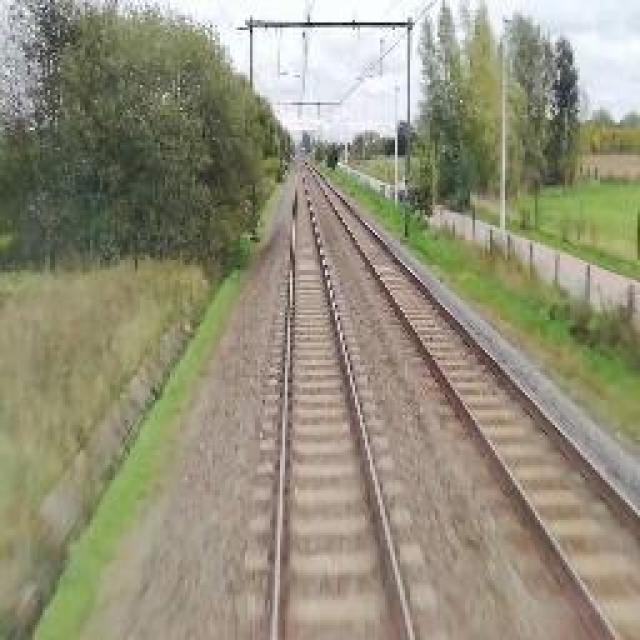rail: (238, 156, 454, 640)
